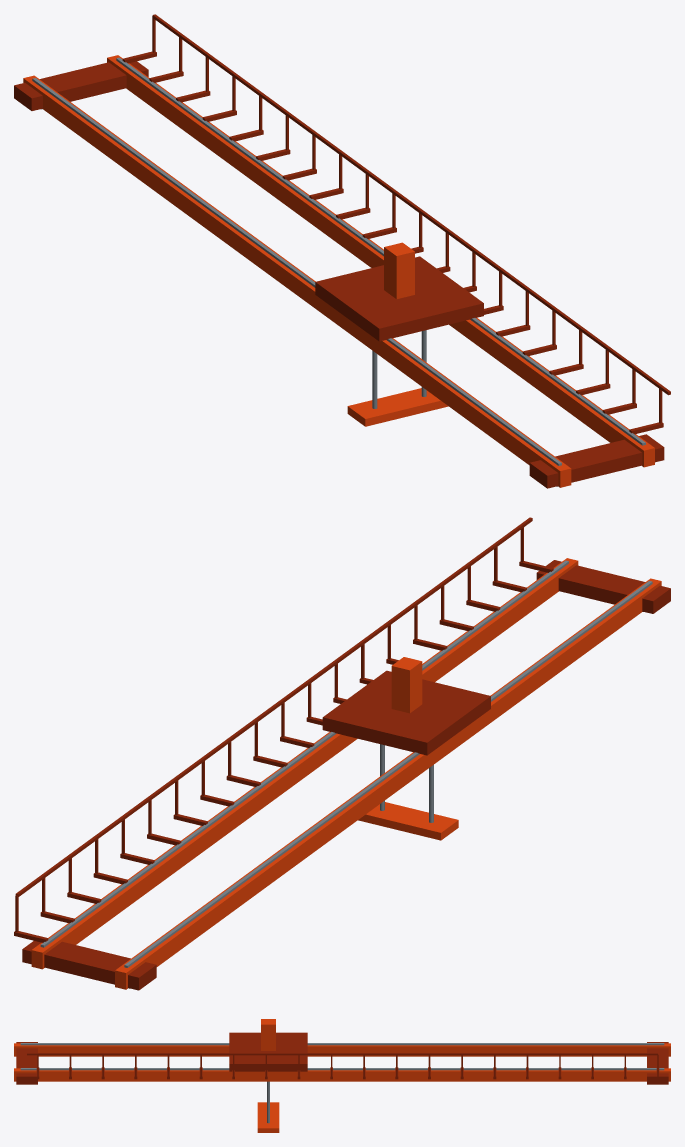
The model's file is unknown_bridge.dae.
3 views of the same model, one above another, from view 1: azimuth 30°, elevation 25°; view 2: azimuth 150°, elevation 25°; view 3: azimuth 270°, elevation 25° (orthographic). The views are drawn at different scales.
Parts seen in each view (by area): view 1: unknown_bridge; view 2: unknown_bridge; view 3: unknown_bridge.
Part boxes in pixels (bbox=[...]): unknown_bridge: bbox=[14, 14, 670, 488]; unknown_bridge: bbox=[14, 517, 670, 990]; unknown_bridge: bbox=[14, 1019, 670, 1132].
Size of the model in its own units: 2.16 by 15.1 by 2.49.
